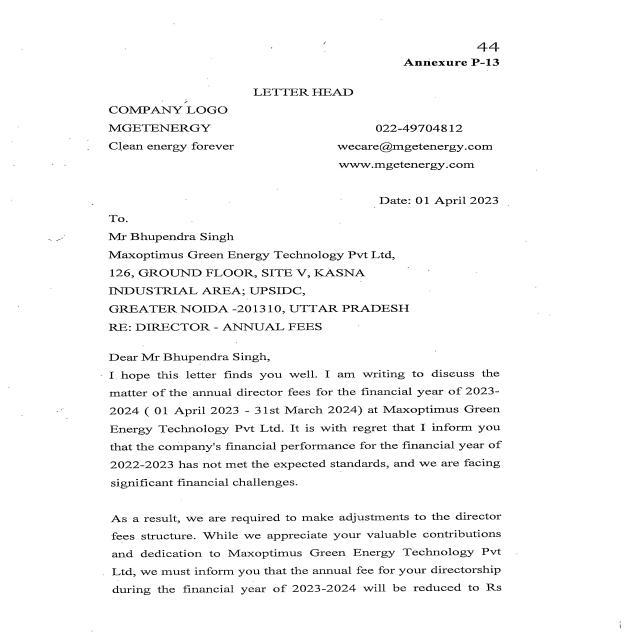page-number: (335, 0, 640, 58)
